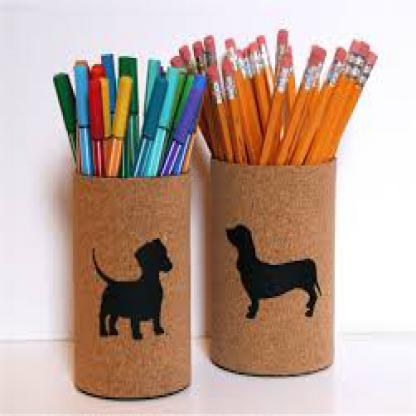BIODEGRADABLE: (207, 78, 224, 104), (328, 56, 340, 83), (274, 66, 288, 89), (302, 62, 316, 85), (313, 58, 322, 89), (342, 48, 352, 74), (222, 77, 237, 93), (224, 46, 237, 64), (352, 54, 362, 74), (247, 52, 260, 66), (238, 56, 248, 74), (260, 41, 269, 60), (361, 60, 368, 79), (275, 41, 282, 58)
